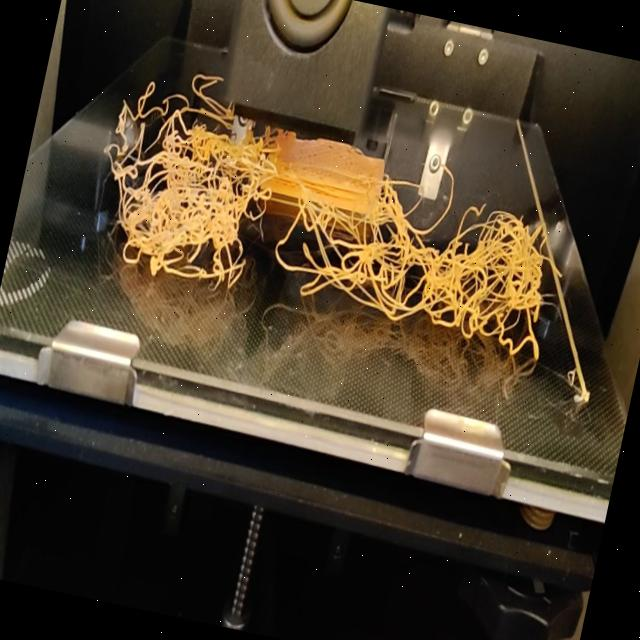spaghetti: (80, 96, 580, 362), (140, 56, 235, 116)
